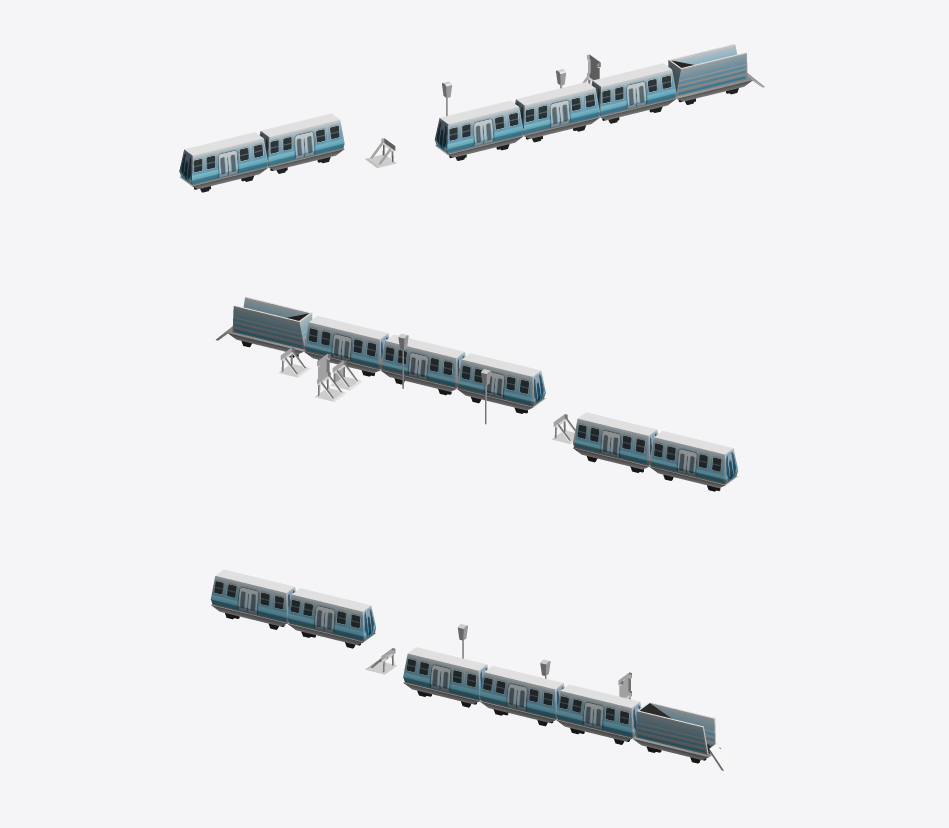
File: subwaymap5visual.glb
3 views of the same model, one above another, from view 1: azimuth 30°, elevation 25°; view 2: azimuth 150°, elevation 25°; view 3: azimuth 330°, elevation 25° (orthographic).
Visible parts, largest first — view 1: train1.003, train1.005, train1slope, train1.006, train1.002, train1.001; view 2: train1.005, train1.003, train1.006, train1slope, train1.002, train1.001, fencetallopen; view 3: train1slope, train1.006, train1.002, train1.005, train1.003, train1.001.
Boxes of the visible parts, x1,y1,x2,y2 form: train1.003: [434, 100, 523, 160]; train1.005: [179, 132, 267, 192]; train1slope: [668, 44, 764, 104]; train1.006: [259, 113, 344, 173]; train1.002: [591, 63, 676, 123]; train1.001: [515, 82, 599, 142]; train1.005: [649, 431, 738, 491]; train1.003: [457, 353, 545, 413]; train1.006: [573, 412, 657, 472]; train1slope: [216, 296, 312, 357]; train1.002: [304, 316, 389, 376]; train1.001: [380, 334, 465, 395]; fencetallopen: [315, 353, 346, 401]; train1slope: [632, 702, 733, 770]; train1.006: [287, 588, 375, 648]; train1.002: [556, 684, 641, 744]; train1.005: [210, 569, 295, 629]; train1.003: [403, 647, 487, 707]; train1.001: [479, 666, 564, 726].
Size of the model in its own units: 160 by 9.52 by 15.
1 material, 1 textured.
